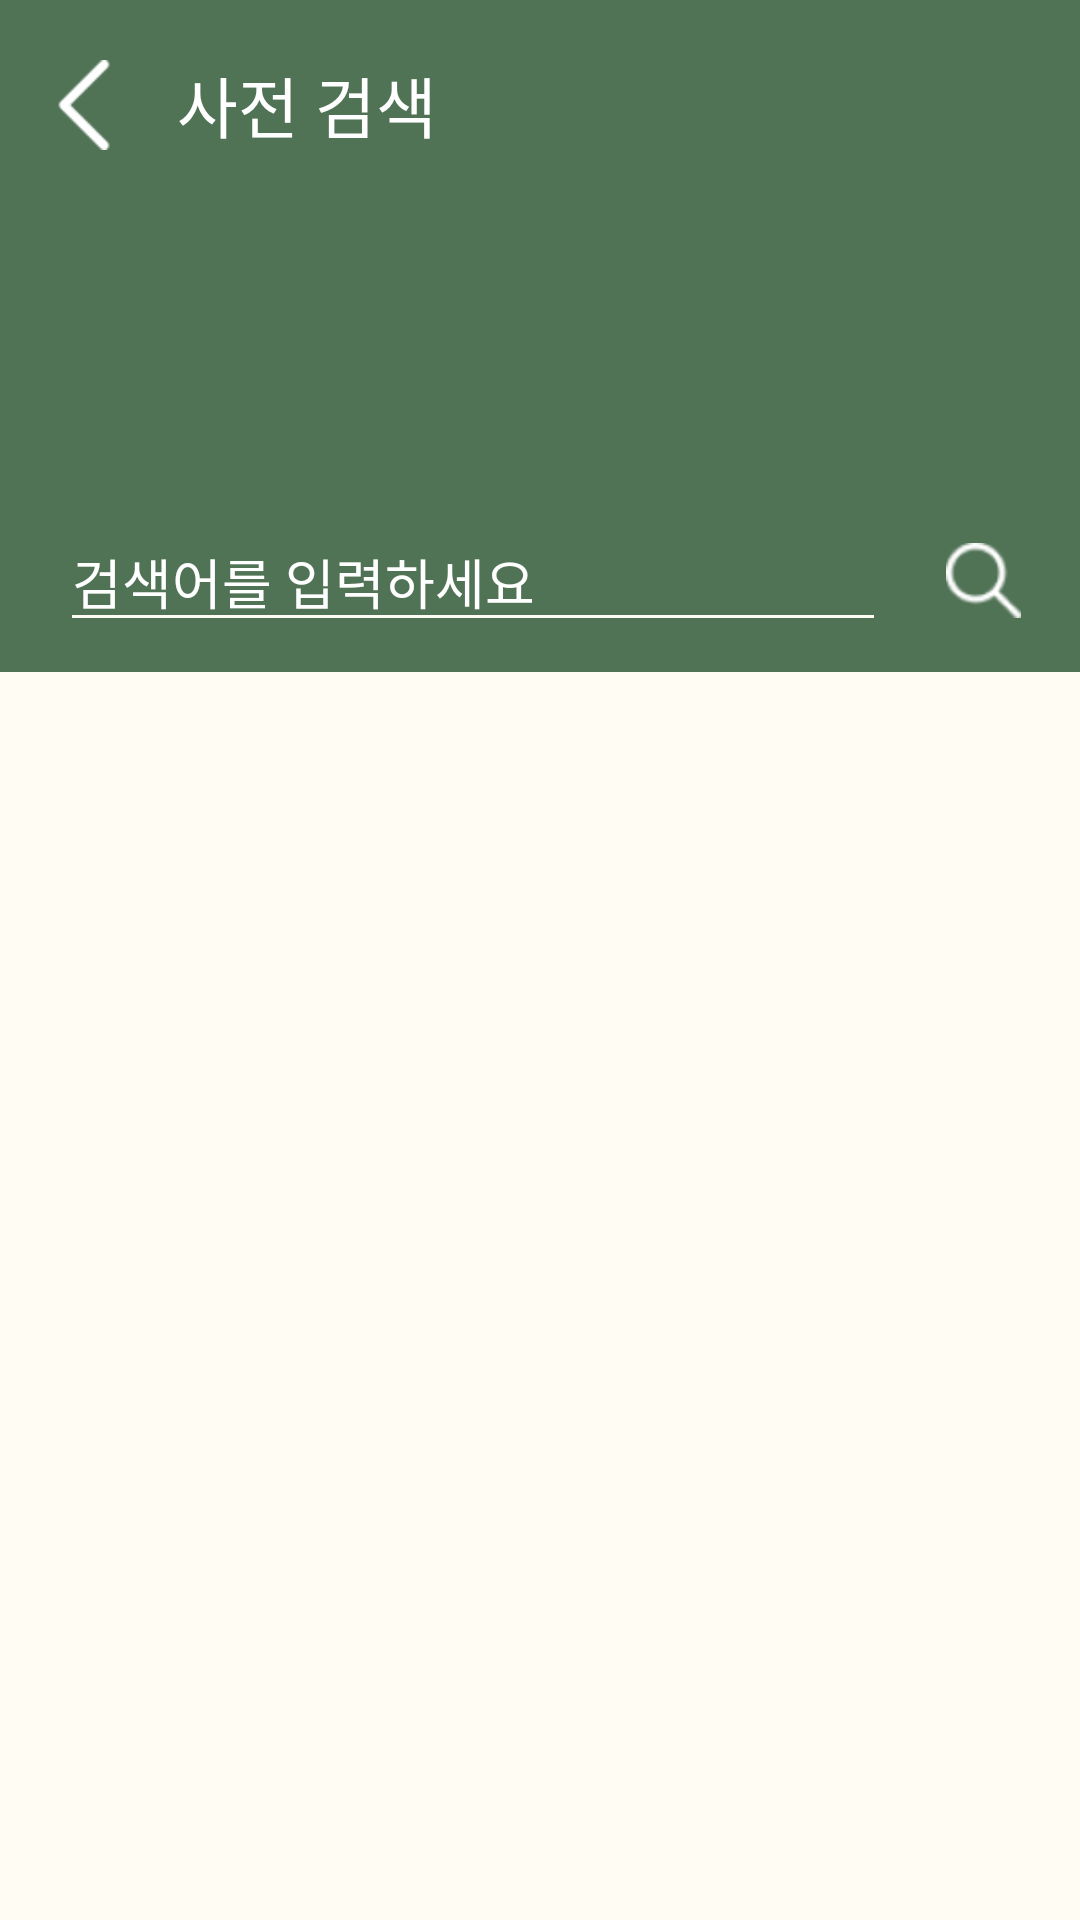

Named icons in this screenshot (1080×1920) and their bounding boxes, (x1, y1, x2, y2):
backbutton: (58, 60, 110, 150)
